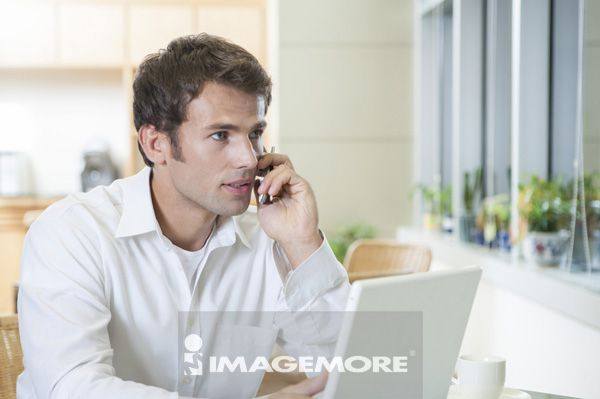talk: (194, 113, 318, 252)
